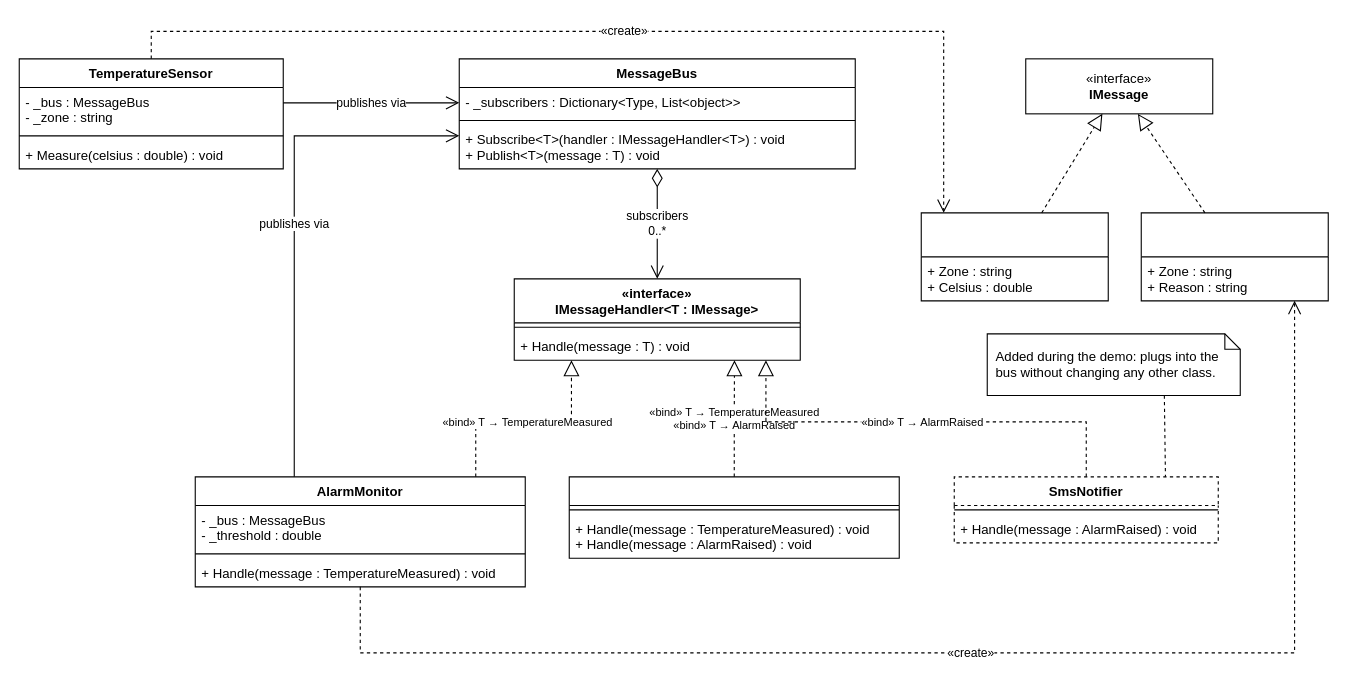
Some shapes in this 1348 by 685 pixel diagram are drawn without their labels. Here are the shapes that lost their labels. From the top down, the box of each, then its label:
(920, 212, 1108, 301): «record» TemperatureMeasured
(1140, 212, 1328, 301): «record» AlarmRaised
(568, 476, 899, 558): Dashboard
